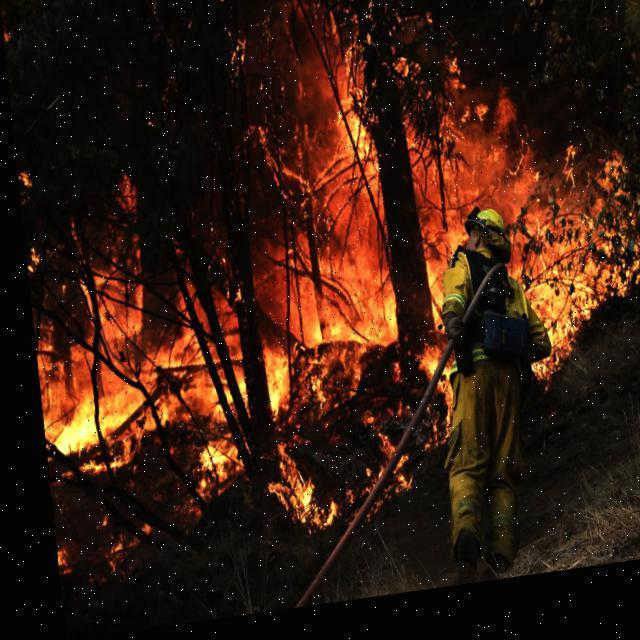Fire: (261, 0, 639, 520), (18, 158, 290, 538)
